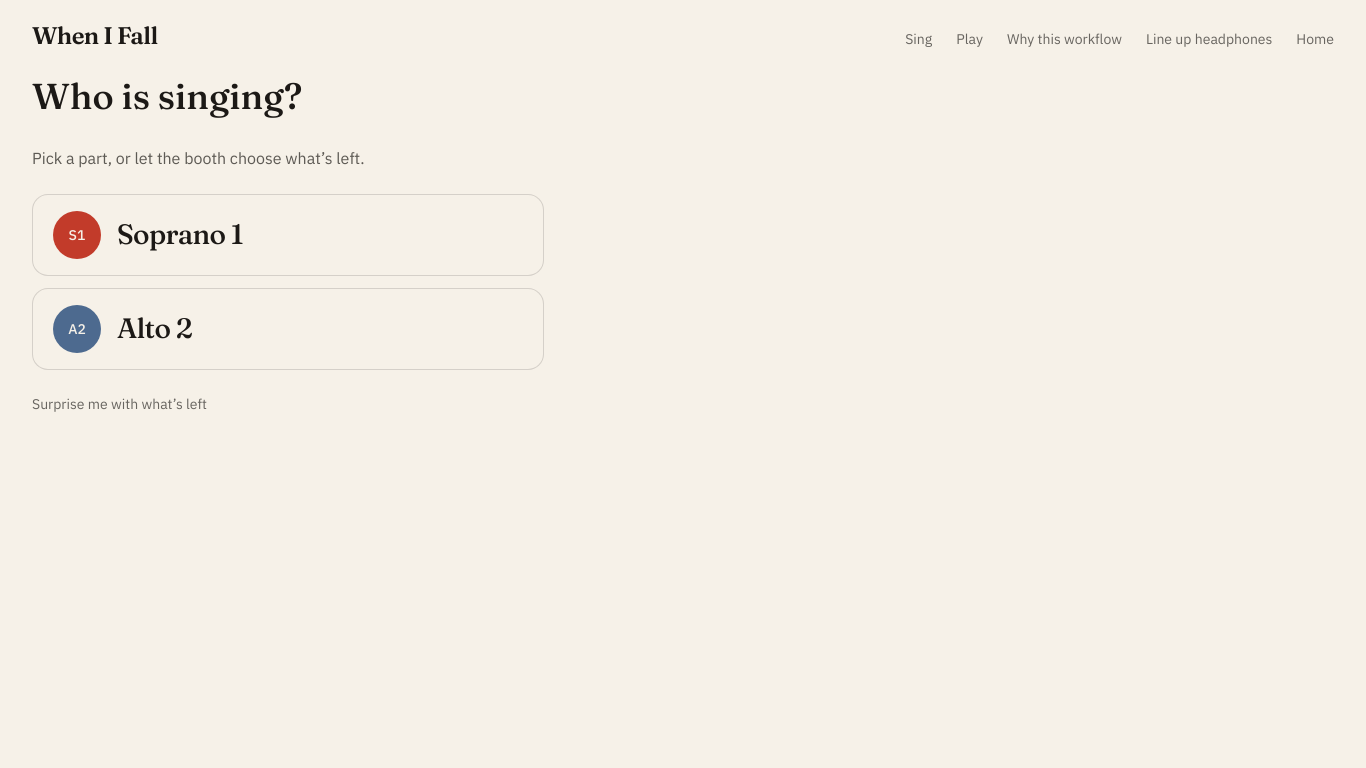
Test: SingPage booth flow › Good enough persists enough and advances to the next phrase
Click the button "S1 Soprano 1" at (77, 234), box [32,194,544,276]
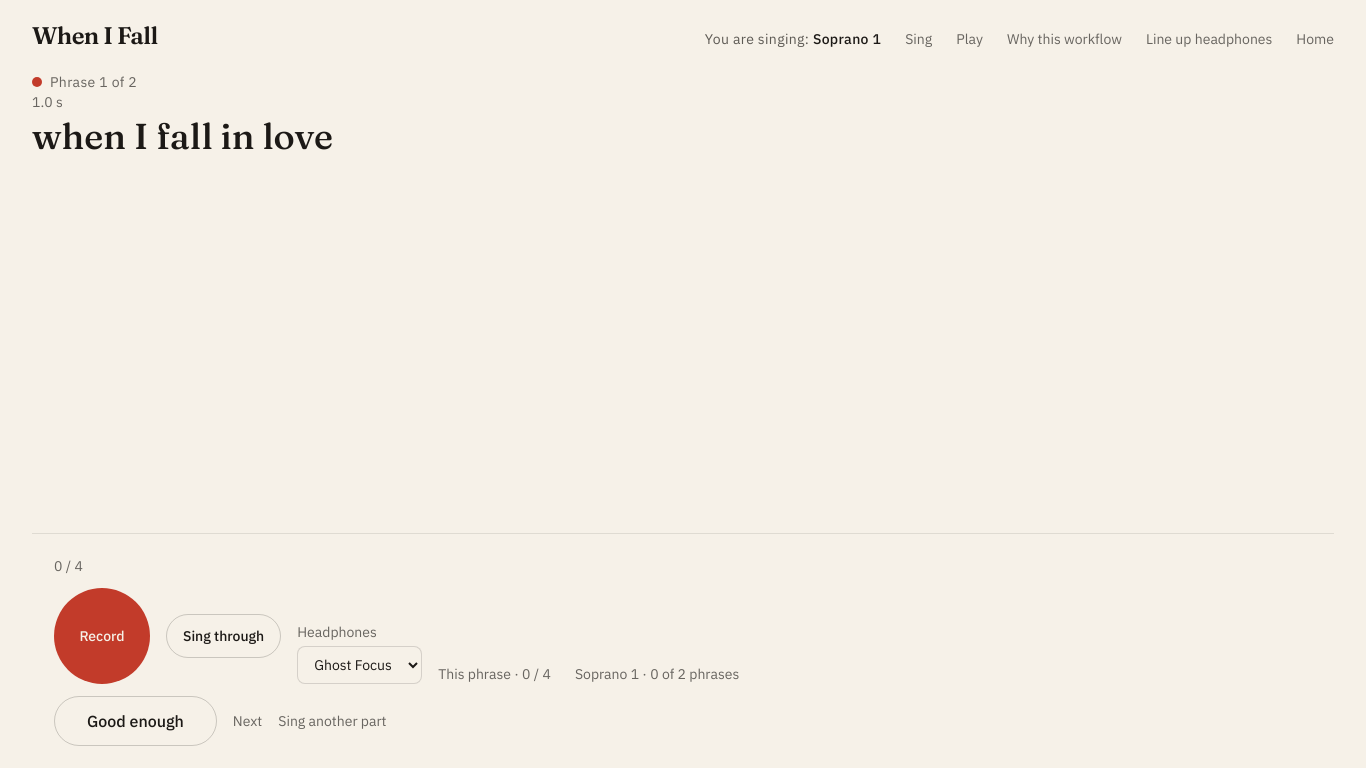
Result: the text "when I fall in love" is shown at [32,114,333,158]
Result: the button "Record" is shown at [54,588,150,684]
Click the button "Good enough" at (135, 721), box [54,696,217,746]
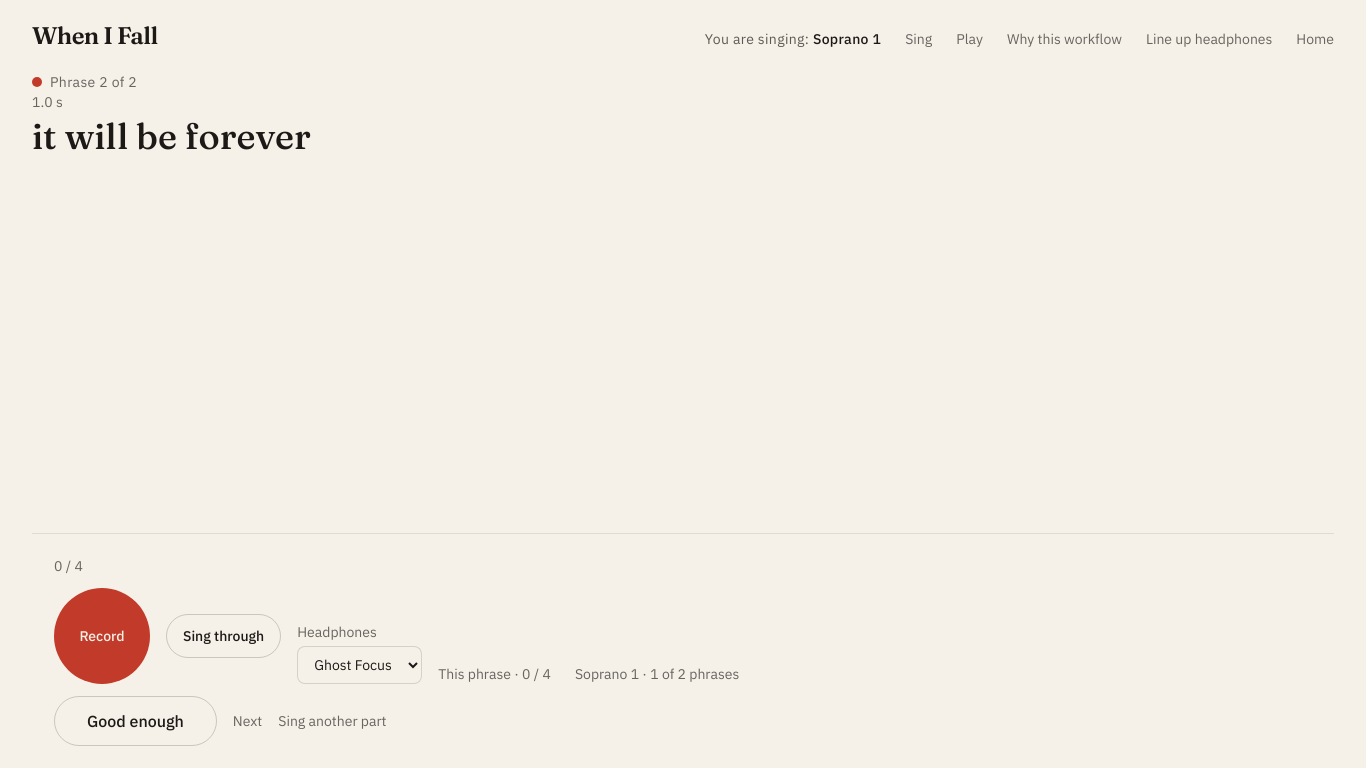
Result: the button "Record" is shown at [54,588,150,684]
Result: the text "it will be forever" is shown at [32,114,311,158]
Result: the text "when I fall in love" is gone
